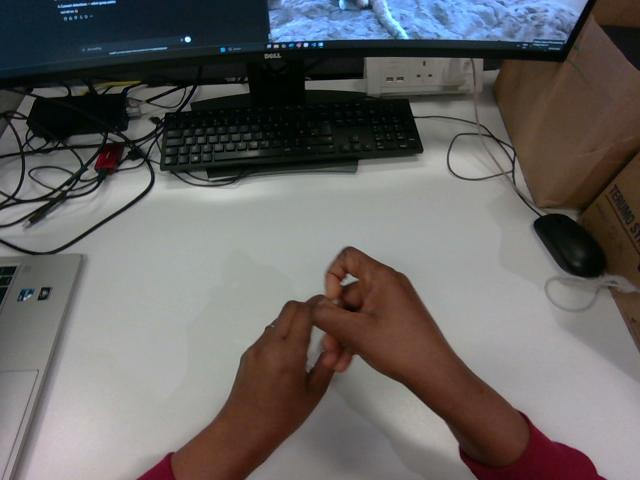gallipot: (307, 327, 323, 367)
